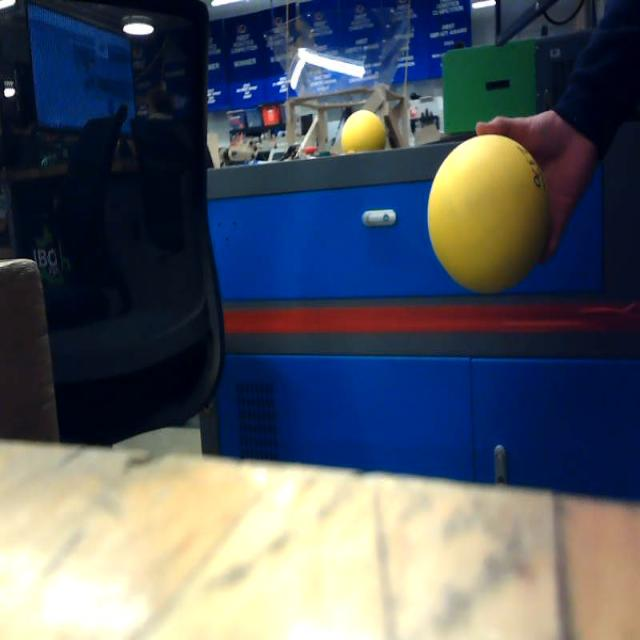Fuel: (428, 136, 548, 291), (342, 110, 386, 158)
